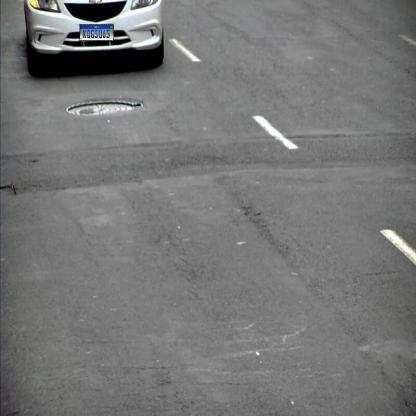PlacaM: (79, 24, 114, 41)
